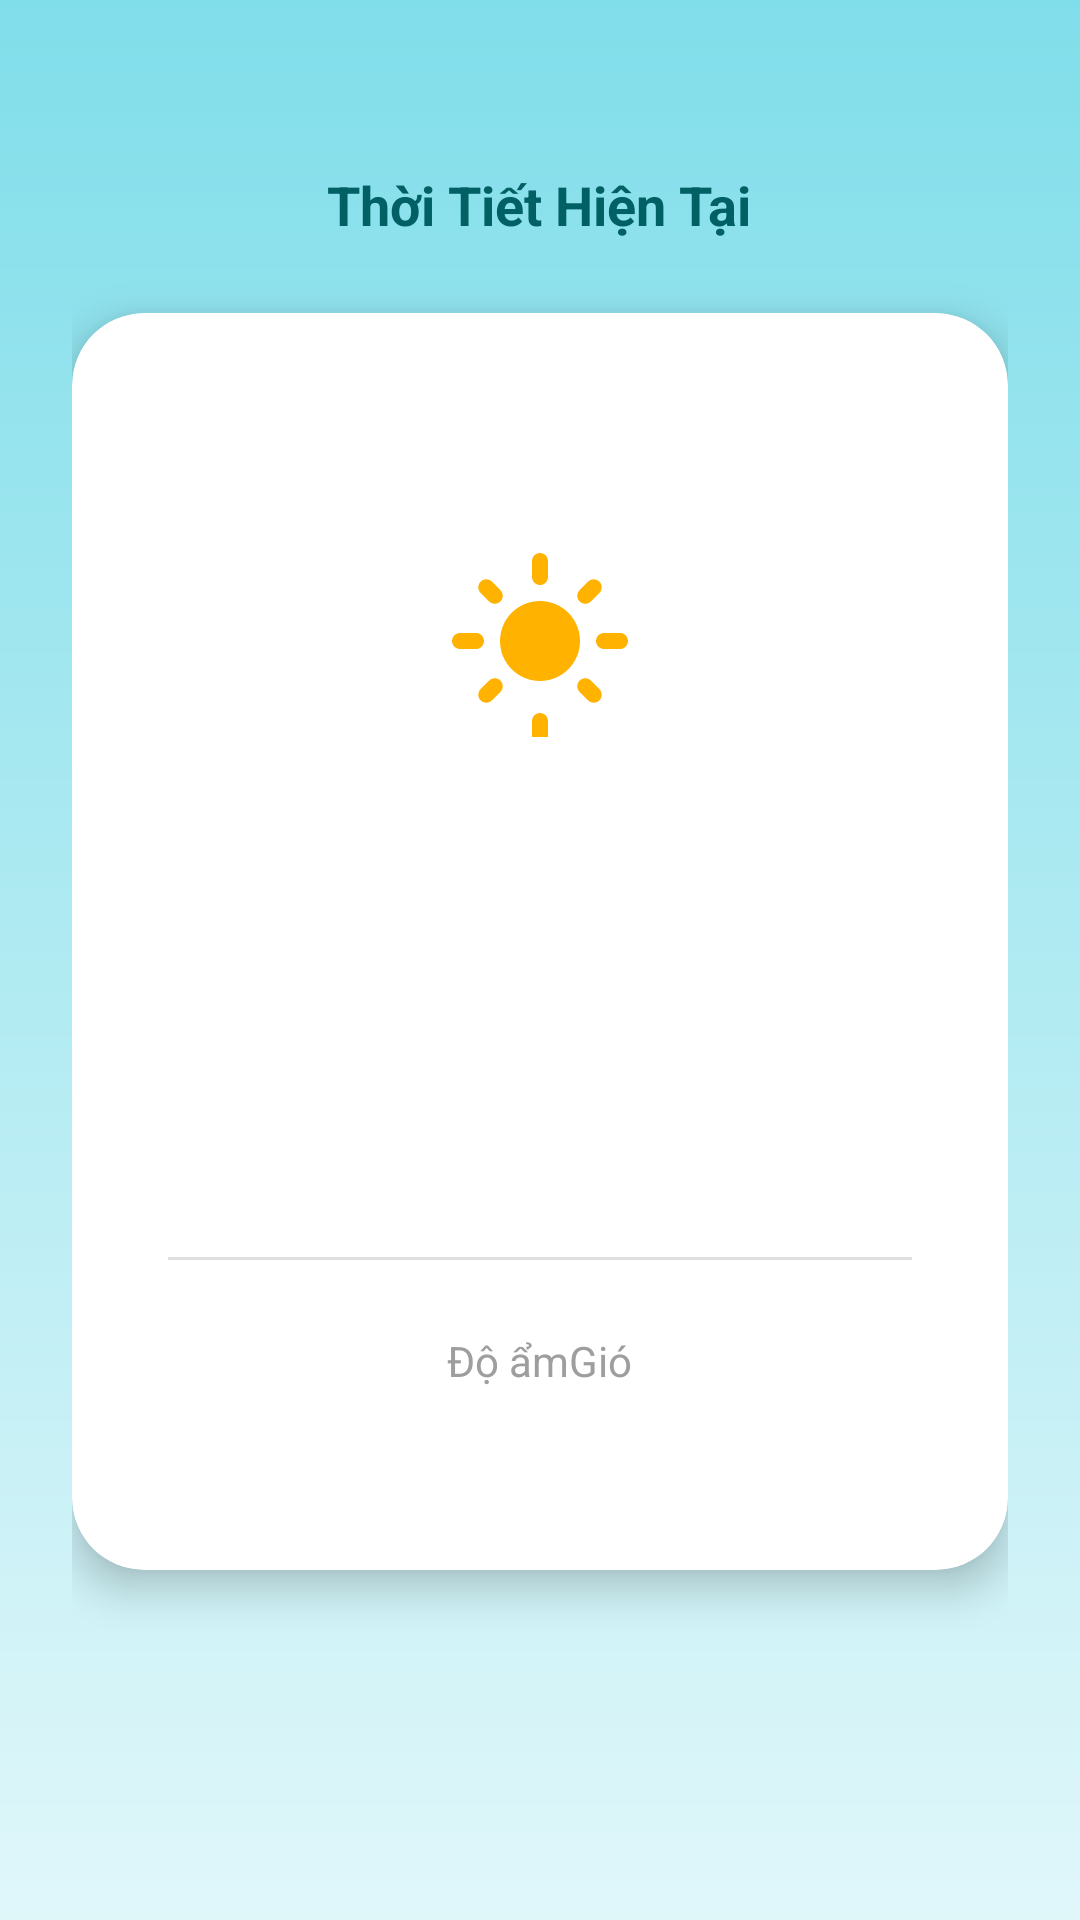

Named icons in this screenshot (1080px x 1920px) and their bounding boxes, box(x1, y1, x2, y2):
weather sun: box(452, 553, 628, 737)
